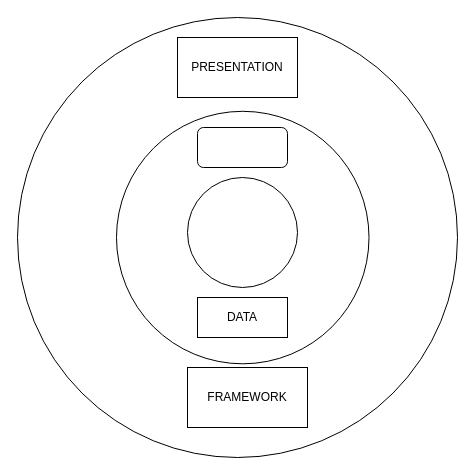
This 475x475 diagram has some shape labels left out. The shapes that lost their labels are listed below. From the top down, each one's centre as x and y in pixels, then its label:
the point at 242,147: USE CASE
the point at 242,232: DOMAIN
